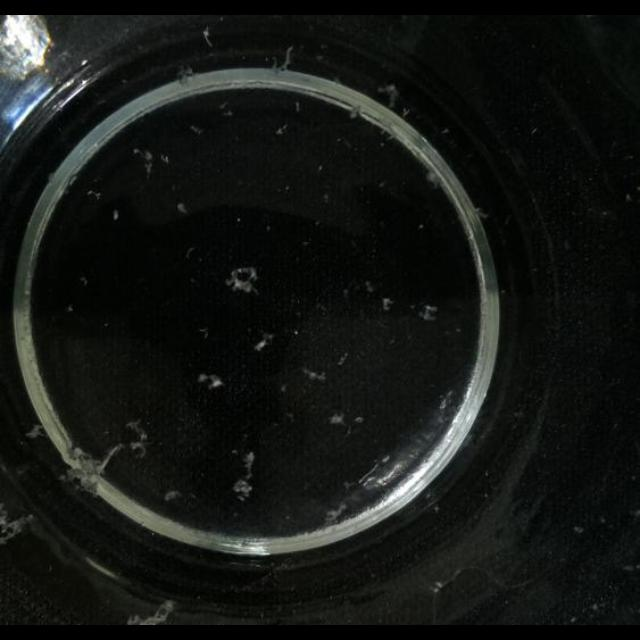Fibre: (230, 451, 258, 502), (128, 598, 174, 626), (0, 506, 32, 546), (132, 148, 154, 176), (198, 373, 226, 391), (324, 503, 346, 525), (253, 333, 273, 351), (418, 305, 438, 323), (24, 424, 46, 440), (302, 368, 326, 382), (382, 297, 394, 311)
microbeads: (329, 412, 345, 426), (177, 202, 189, 215)
